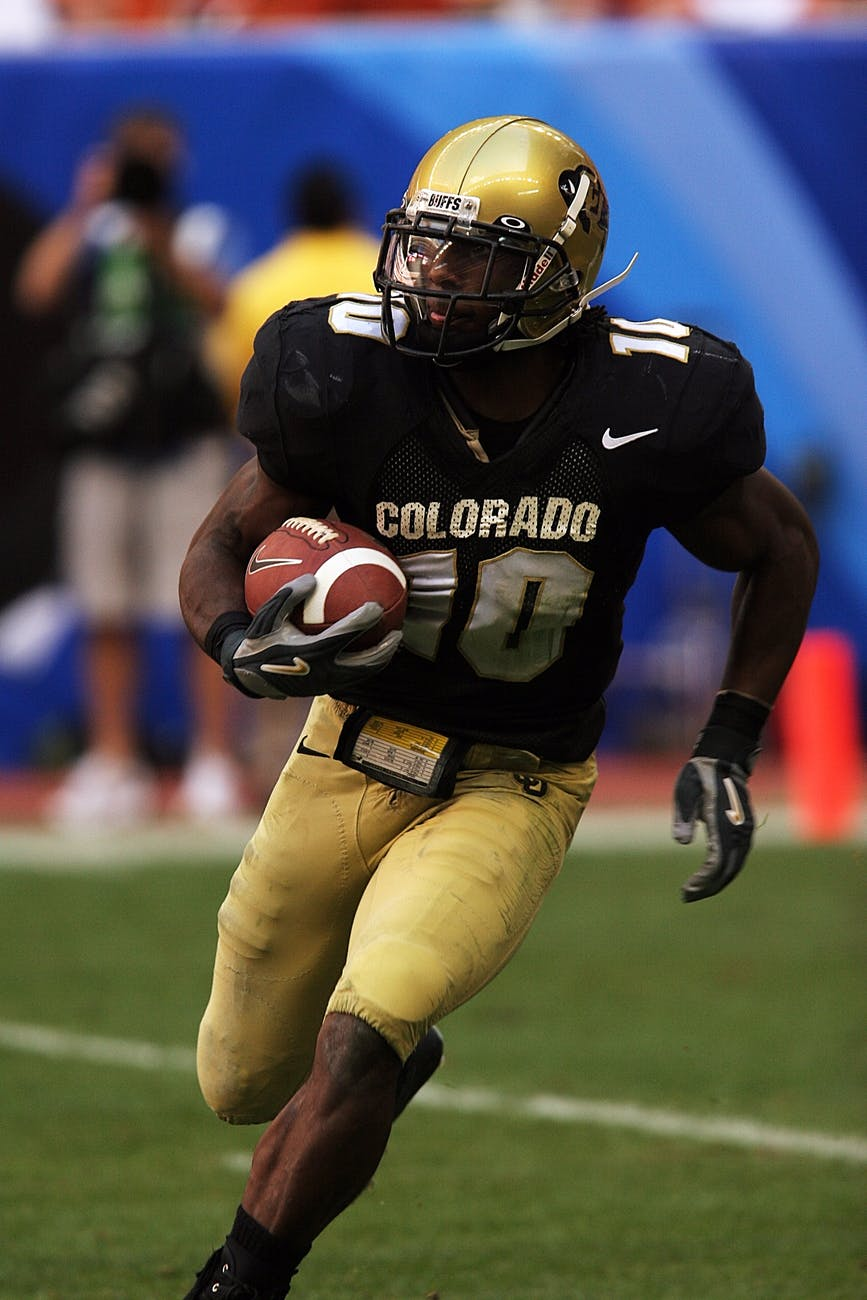helmet: (414, 109, 606, 337)
